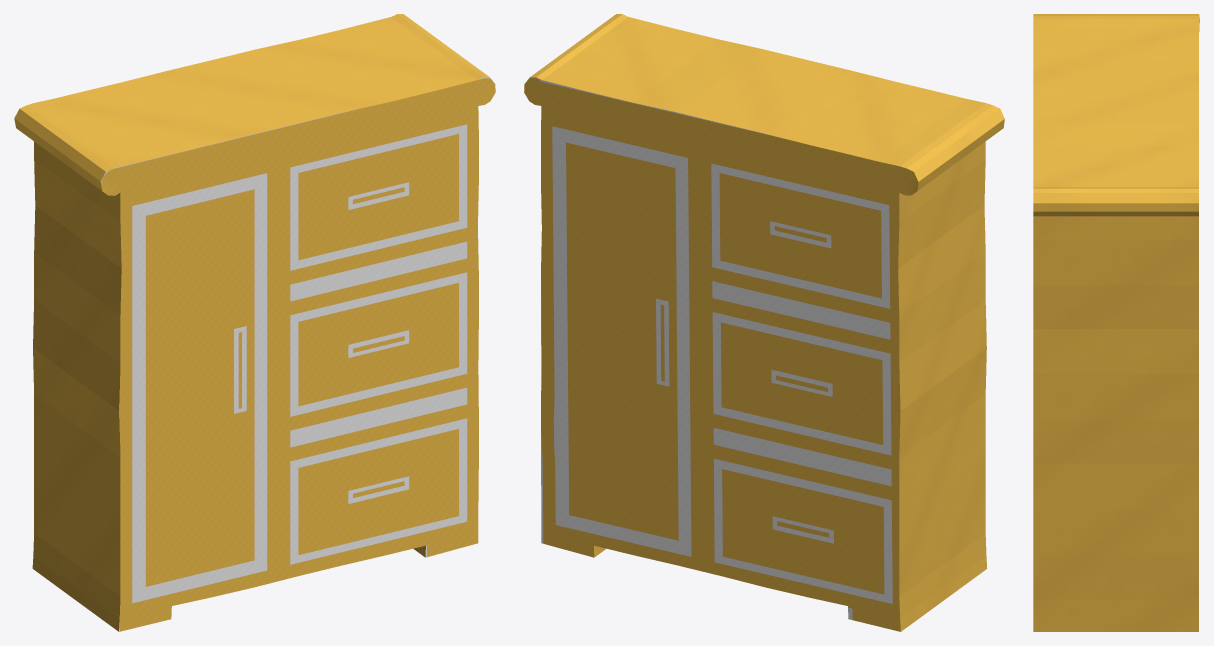
The model's file is Wardrobe FBX.fbx.
3 renders of one model, left to right at view 1: azimuth 30°, elevation 25°; view 2: azimuth 150°, elevation 25°; view 3: azimuth 270°, elevation 25°, orthographic. The views are drawn at different scales.
Parts seen in each view (by area): view 1: polySurface1; view 2: polySurface1; view 3: polySurface1.
Boxes of the visible parts, x1,y1,x2,y2 form: polySurface1: (14, 14, 495, 631); polySurface1: (524, 14, 1004, 631); polySurface1: (1033, 14, 1199, 631).
Size of the model in its own units: 8.86 by 10 by 3.37.
1 material, 1 textured.
